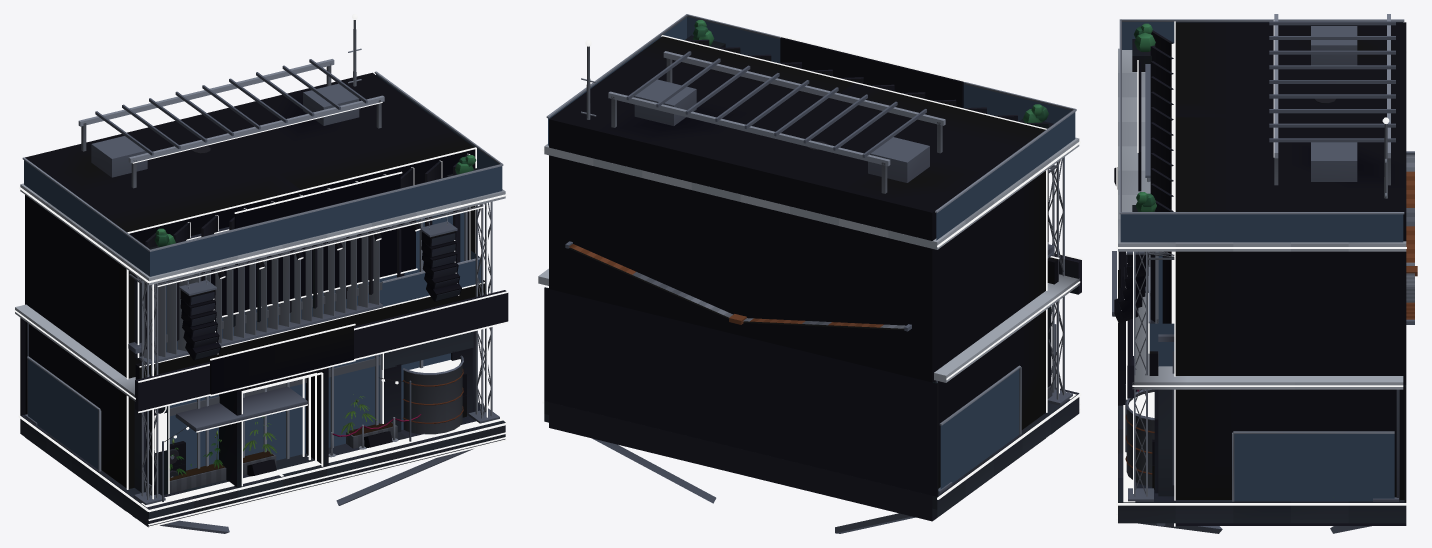
Rendered from lugares-cidade.glb.
3 renders of one model, left to right at view 1: azimuth 30°, elevation 25°; view 2: azimuth 150°, elevation 25°; view 3: azimuth 270°, elevation 25°, orthographic. The views are drawn at different scales.
Visible parts, largest first — view 1: balada_solido, terraco_solido, casa-drew_solido, terraco_vidro, palco_solido, estacao_solido, casa-ella_solido, balada_neon, estacao_vidro, estacao_neon, palco_neon, estacao_luz (+4 smaller); view 2: balada_solido, estacao_solido, terraco_solido, balada_pe, palco_solido, terraco_vidro, estacao_vidro, casa-ella_solido, balada_neon, palco_neon, estacao_neon; view 3: balada_solido, terraco_solido, estacao_solido, estacao_vidro, terraco_vidro, palco_solido, casa-ella_solido, casa-drew_solido, balada_neon, estacao_neon, terraco_neon, palco_neon (+4 smaller).
Boxes of the visible parts, x1,y1,x2,y2 form: balada_solido: [25, 72, 475, 488]; terraco_solido: [20, 20, 505, 519]; casa-drew_solido: [134, 146, 484, 492]; terraco_vidro: [24, 74, 502, 470]; palco_solido: [21, 174, 505, 533]; estacao_solido: [15, 290, 508, 527]; casa-ella_solido: [144, 355, 463, 501]; balada_neon: [126, 147, 507, 520]; estacao_vidro: [28, 359, 98, 469]; estacao_neon: [14, 291, 508, 527]; palco_neon: [19, 171, 506, 525]; estacao_luz: [141, 413, 502, 507]; balada_solido: [549, 36, 1054, 488]; estacao_solido: [538, 254, 1081, 517]; terraco_solido: [544, 14, 1079, 249]; balada_pe: [549, 402, 1045, 521]; palco_solido: [592, 37, 1078, 533]; terraco_vidro: [548, 17, 1075, 240]; estacao_vidro: [940, 369, 1019, 488]; casa-ella_solido: [544, 241, 1056, 509]; balada_neon: [543, 35, 1080, 412]; palco_neon: [542, 35, 1080, 498]; estacao_neon: [537, 252, 1082, 499]; balada_solido: [1118, 22, 1406, 499]; terraco_solido: [1112, 14, 1406, 366]; estacao_solido: [1118, 293, 1406, 523]; estacao_vidro: [1234, 434, 1394, 501]; terraco_vidro: [1120, 22, 1403, 366]; palco_solido: [1114, 62, 1404, 533]; casa-ella_solido: [1125, 151, 1417, 486]; casa-drew_solido: [1145, 64, 1336, 496]; balada_neon: [1116, 21, 1175, 514]; estacao_neon: [1116, 251, 1406, 522]; terraco_neon: [1111, 20, 1406, 316]; palco_neon: [1116, 60, 1406, 520].
Size of the model in its own units: 16.67 by 17.81 by 10.63.
